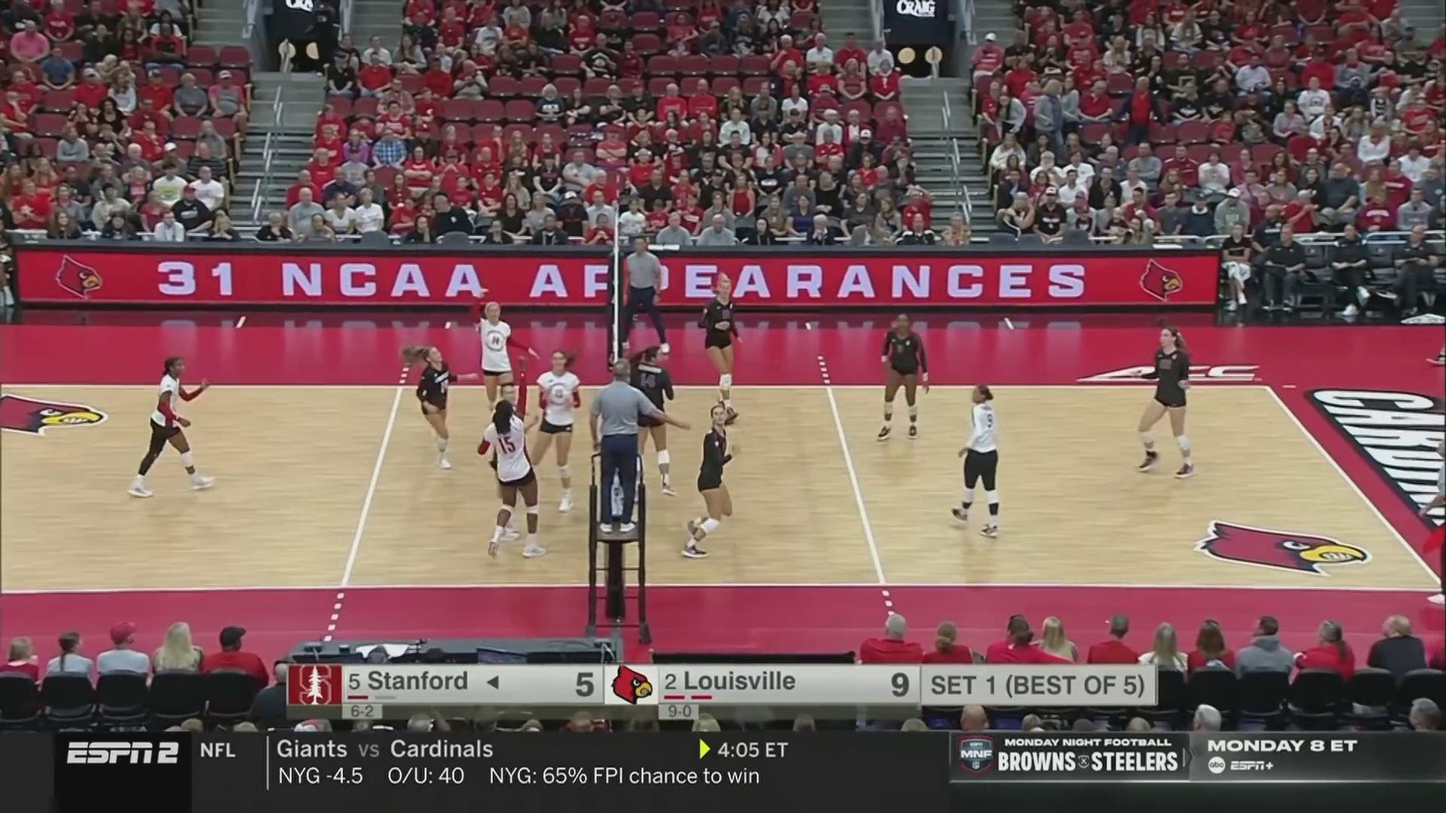player: (130, 358, 216, 496), (480, 402, 550, 556), (1130, 326, 1197, 475), (529, 350, 587, 516), (395, 345, 464, 475), (488, 374, 541, 542), (680, 402, 738, 555), (690, 284, 753, 418), (949, 389, 1006, 537), (467, 297, 526, 431), (623, 347, 673, 501), (879, 315, 939, 443)
refree: (585, 374, 660, 541), (616, 241, 672, 353)
